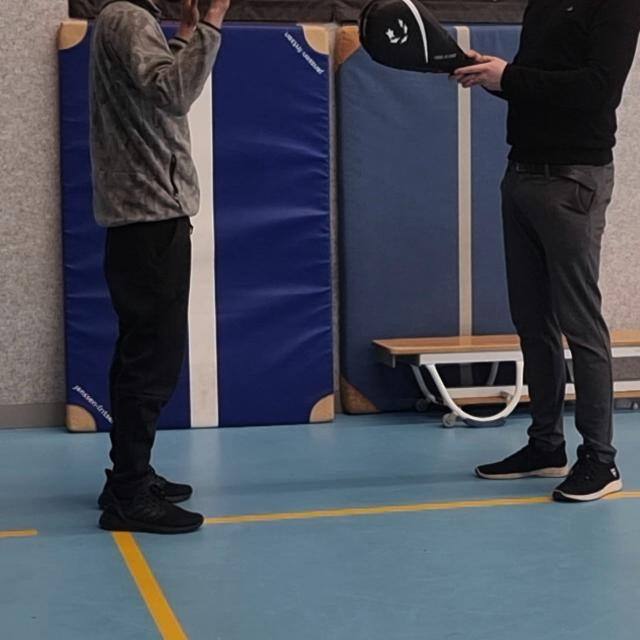paddle: (359, 0, 477, 74)
